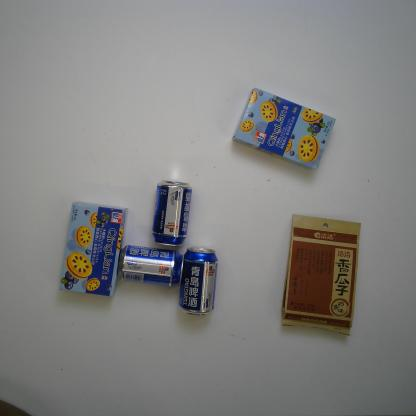Alcohol: (117, 244, 184, 287), (151, 180, 193, 247), (179, 247, 218, 316)
Dessert: (232, 87, 336, 170), (58, 200, 128, 297)
Dried Food: (280, 214, 362, 336)
